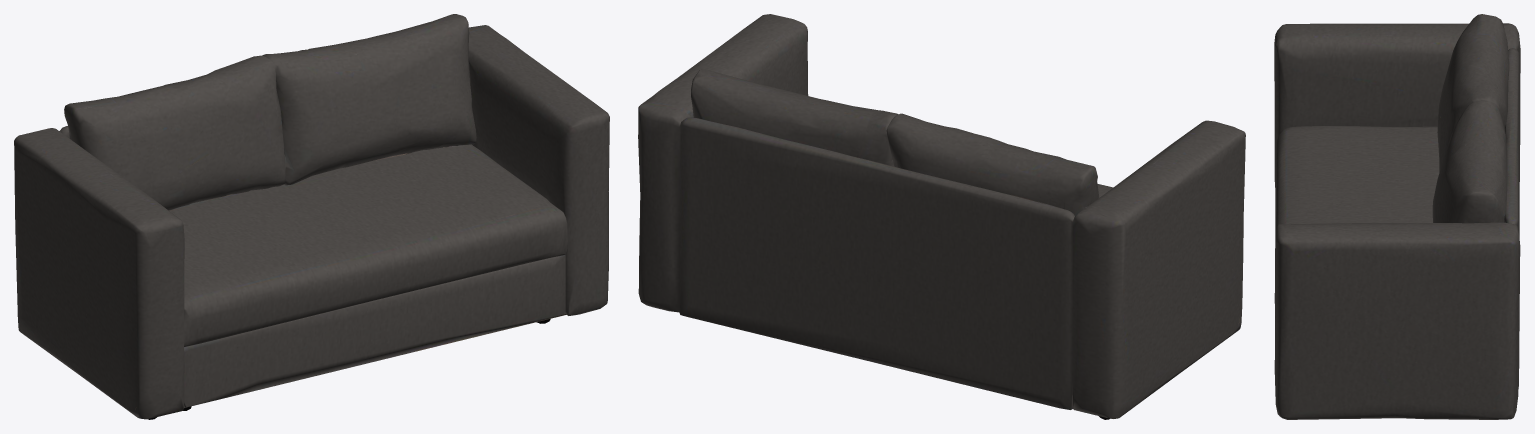
Rendered from skonaback_sofa_2_osobowa_rozkadana_70582542.glb.
3 renders of one model, left to right at view 1: azimuth 30°, elevation 25°; view 2: azimuth 150°, elevation 25°; view 3: azimuth 270°, elevation 25°, orthographic. The views are drawn at different scales.
Visible parts, largest first — view 1: skonaback_sofa_2_osobowa_rozkadana_70582542; view 2: skonaback_sofa_2_osobowa_rozkadana_70582542; view 3: skonaback_sofa_2_osobowa_rozkadana_70582542.
Boxes of the visible parts, left/top/right/bottom form: skonaback_sofa_2_osobowa_rozkadana_70582542: left=14, top=14, right=609, bottom=419; skonaback_sofa_2_osobowa_rozkadana_70582542: left=638, top=14, right=1245, bottom=419; skonaback_sofa_2_osobowa_rozkadana_70582542: left=1274, top=14, right=1520, bottom=419.
Size of the model in its own units: 1.61 by 0.7748 by 0.7614.
Materials: 1 (1 with a texture image).
